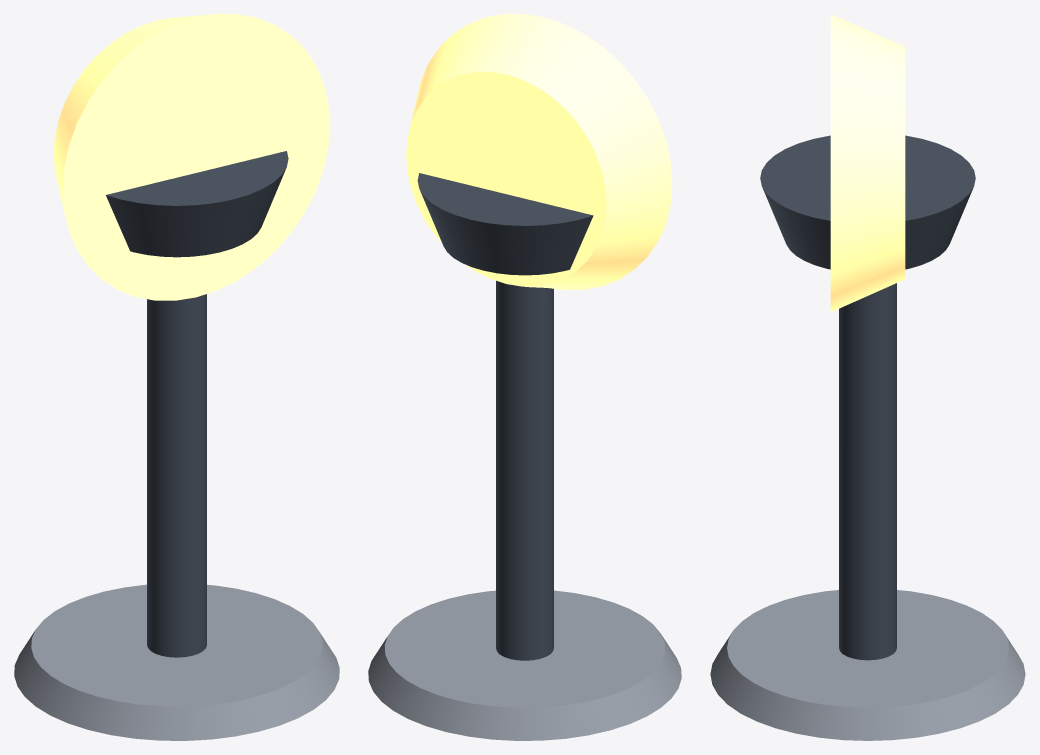
File: smart-light-industrial.glb
3 views of the same model, side by side, from view 1: azimuth 30°, elevation 25°; view 2: azimuth 150°, elevation 25°; view 3: azimuth 270°, elevation 25° (orthographic). The views are drawn at different scales.
Visible parts, largest first — view 1: smart-light-industrial; view 2: smart-light-industrial; view 3: smart-light-industrial.
Part boxes in pixels (<box>): smart-light-industrial: <box>14,14,339,740</box>; smart-light-industrial: <box>368,14,681,740</box>; smart-light-industrial: <box>710,14,1025,740</box>.
Bounding box in the file's own units: 0.76 × 1.73 × 0.76.
